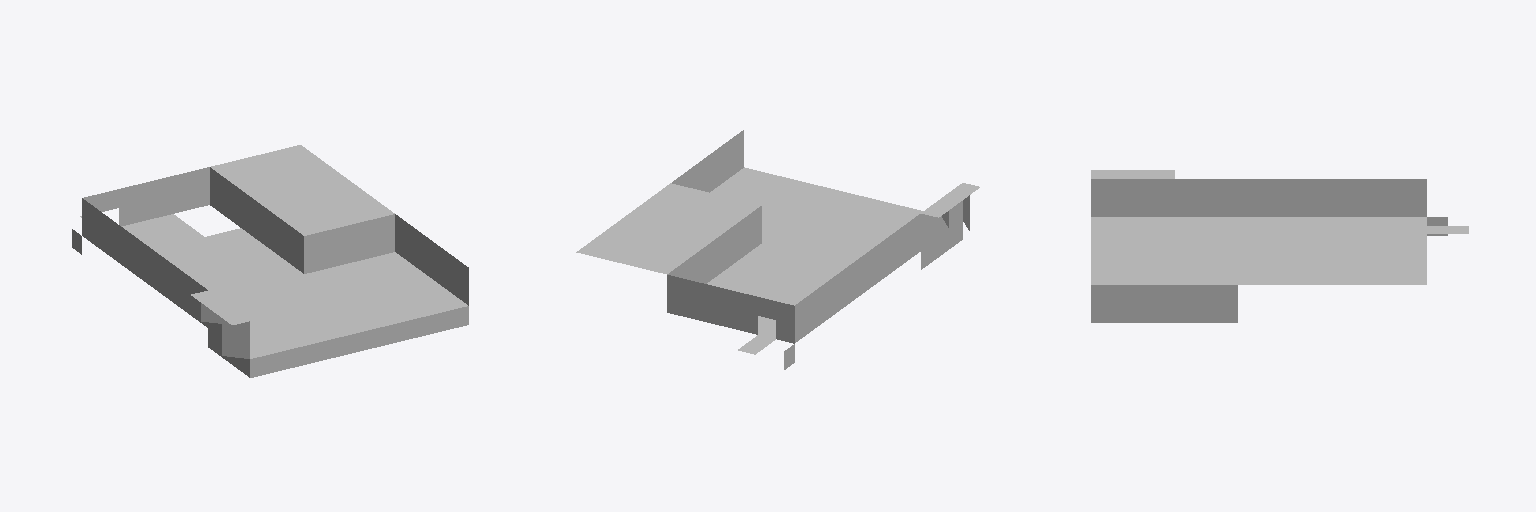
The model's file is evencare7gen2.obj.
3 views of the same model, side by side, from view 1: azimuth 30°, elevation 25°; view 2: azimuth 150°, elevation 25°; view 3: azimuth 270°, elevation 25° (orthographic).
Visible parts, largest first — view 1: Cube.001; view 2: Cube.001; view 3: Cube.001.
Part boxes in pixels (x1,y1,x2,y2): Cube.001: (72, 145, 468, 377); Cube.001: (576, 130, 979, 369); Cube.001: (1091, 170, 1468, 322).
Bounding box in the file's own units: 13 × 3 × 18.